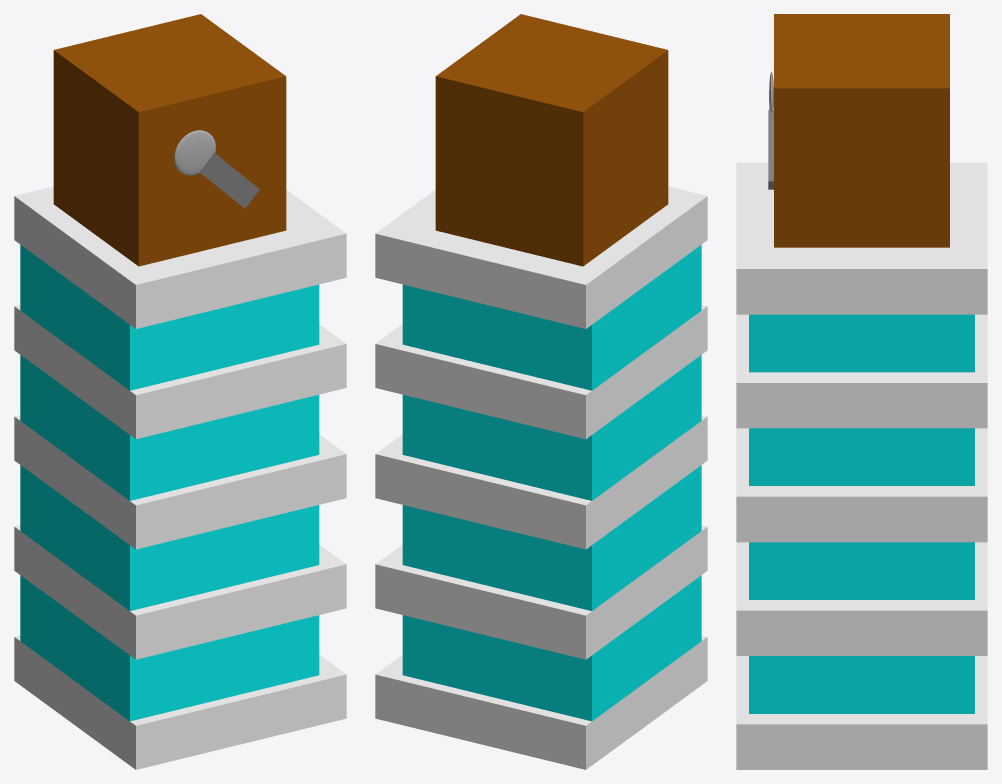
The model's file is karaoke.glb.
3 renders of one model, left to right at view 1: azimuth 30°, elevation 25°; view 2: azimuth 150°, elevation 25°; view 3: azimuth 270°, elevation 25°, orthographic. The views are drawn at different scales.
Parts seen in each view (by area): view 1: pCube10, pCube9, pCube8, pCube2, pCube4, pCube6, pCube7, pCube3, pCube5, pCube1, pCube11, pSphere1; view 2: pCube10, pCube9, pCube8, pCube2, pCube4, pCube6, pCube7, pCube3, pCube5, pCube1; view 3: pCube10, pCube9, pCube5, pCube7, pCube1, pCube3, pCube8, pCube2, pCube4, pCube6, pCube11.
Part boxes in pixels (bbox=[...]): pCube10: bbox=[53, 14, 286, 266]; pCube9: bbox=[14, 186, 346, 328]; pCube8: bbox=[20, 245, 319, 390]; pCube2: bbox=[20, 575, 319, 721]; pCube4: bbox=[20, 465, 319, 610]; pCube6: bbox=[20, 355, 319, 500]; pCube7: bbox=[14, 305, 346, 439]; pCube3: bbox=[14, 525, 346, 659]; pCube5: bbox=[14, 415, 346, 549]; pCube1: bbox=[14, 635, 346, 769]; pCube11: bbox=[200, 153, 259, 208]; pSphere1: bbox=[174, 130, 216, 175]; pCube10: bbox=[435, 14, 668, 266]; pCube9: bbox=[375, 186, 707, 328]; pCube8: bbox=[402, 245, 701, 390]; pCube2: bbox=[402, 575, 701, 721]; pCube4: bbox=[402, 465, 701, 610]; pCube6: bbox=[402, 355, 701, 500]; pCube7: bbox=[375, 305, 707, 439]; pCube3: bbox=[375, 525, 707, 659]; pCube5: bbox=[375, 415, 707, 549]; pCube1: bbox=[375, 635, 707, 769]; pCube10: bbox=[774, 14, 949, 247]; pCube9: bbox=[736, 162, 987, 314]; pCube5: bbox=[736, 428, 987, 542]; pCube7: bbox=[736, 314, 987, 428]; pCube1: bbox=[736, 656, 987, 769]; pCube3: bbox=[736, 542, 987, 655]; pCube8: bbox=[749, 314, 974, 372]; pCube2: bbox=[749, 656, 974, 713]; pCube4: bbox=[749, 542, 974, 599]; pCube6: bbox=[749, 428, 974, 485]; pCube11: bbox=[768, 110, 773, 189].
Size of the model in its own units: 4 by 11.6 by 4.
